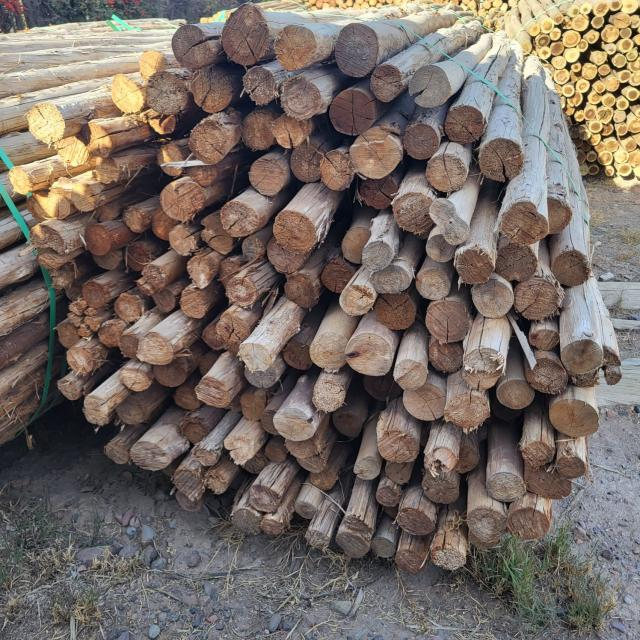package: (27, 6, 624, 564), (517, 0, 640, 175)
